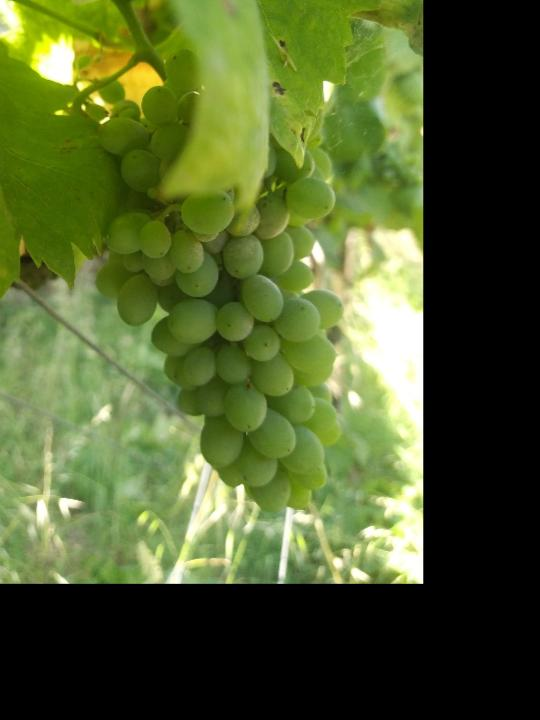grape: (95, 50, 354, 516)
